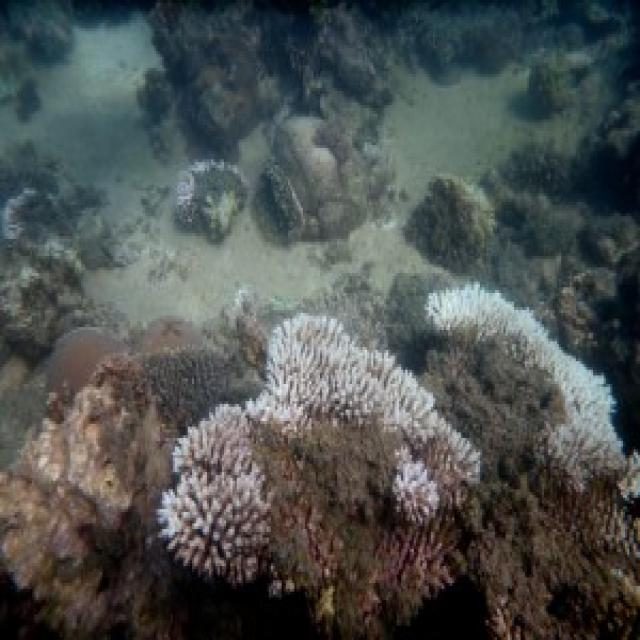Bleached: (426, 283, 624, 467), (266, 314, 440, 448), (159, 465, 270, 584), (178, 405, 261, 479), (421, 405, 480, 490), (396, 456, 436, 524)
